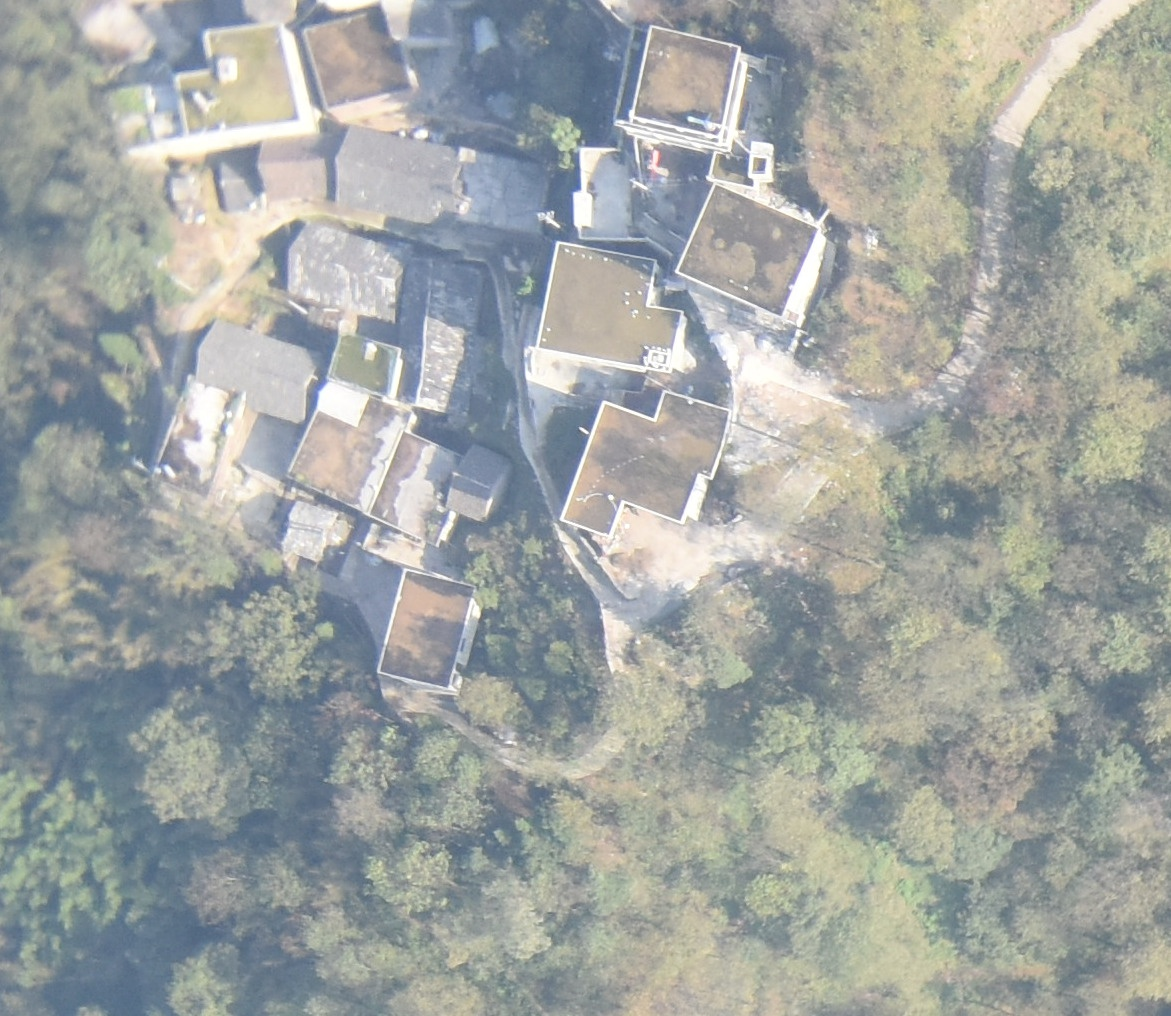building: (557, 392, 733, 538), (537, 240, 688, 379), (676, 184, 823, 321), (614, 23, 746, 152), (288, 381, 414, 516), (173, 21, 311, 139), (393, 259, 486, 416), (374, 567, 482, 697), (196, 318, 325, 424), (335, 124, 467, 227), (288, 220, 410, 324), (368, 431, 474, 547), (303, 9, 418, 115), (154, 377, 240, 493), (446, 442, 514, 522), (256, 135, 342, 197), (328, 332, 401, 398), (218, 152, 268, 211)
